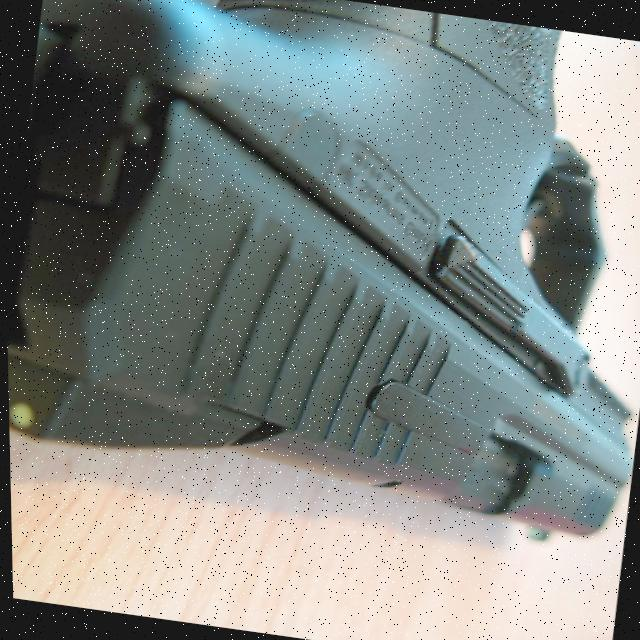pistol: (0, 0, 640, 555)
